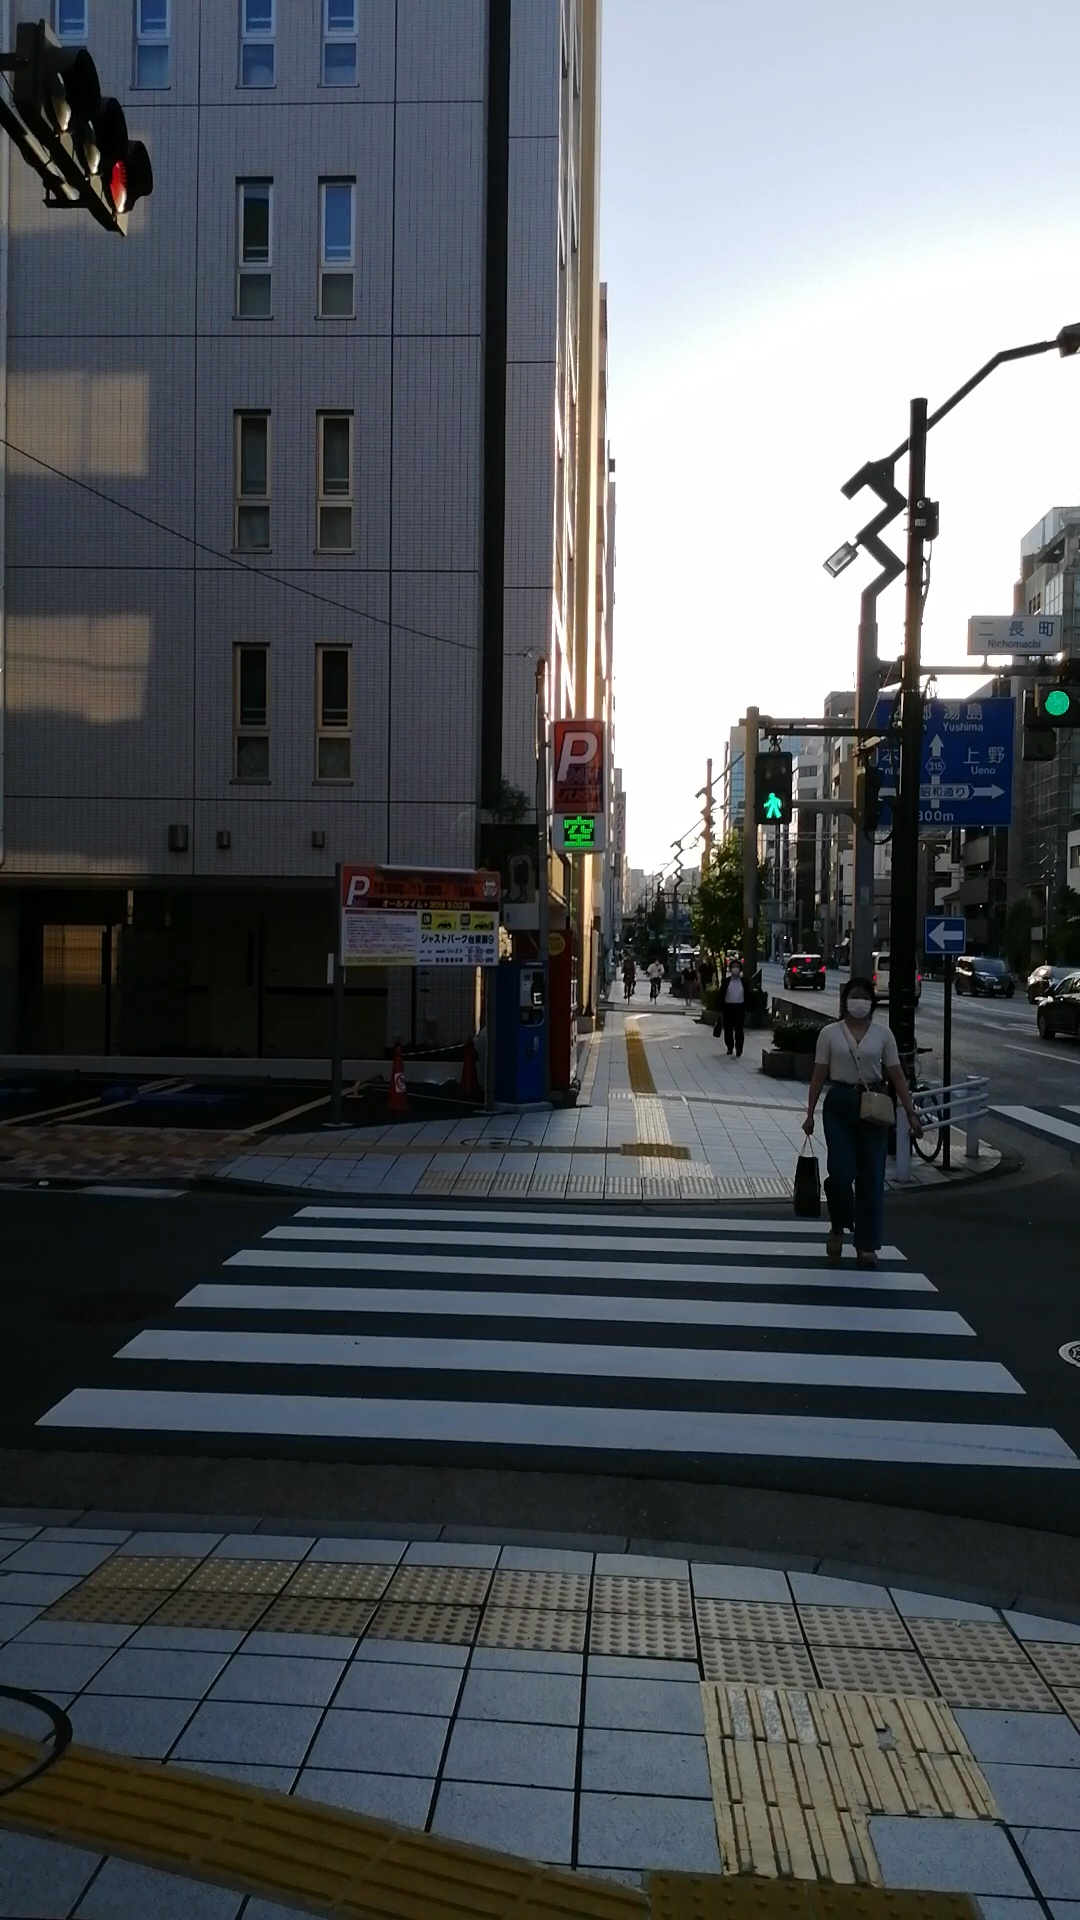green: (754, 752, 793, 825)
